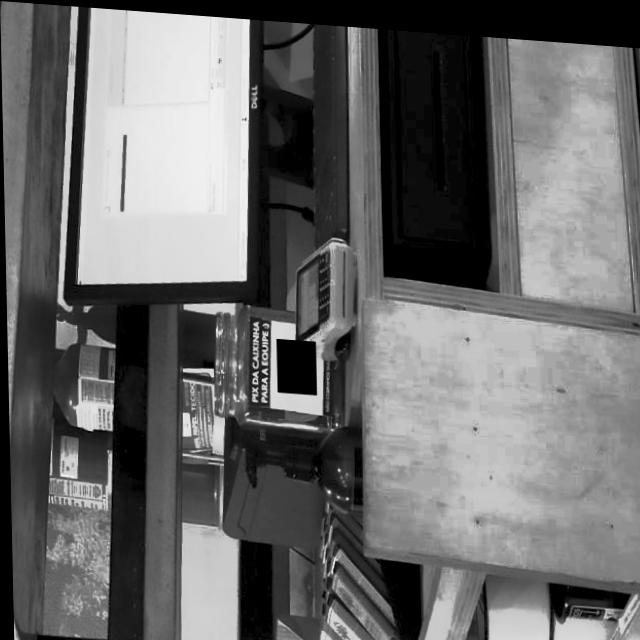qr_code: (276, 334, 314, 389)
